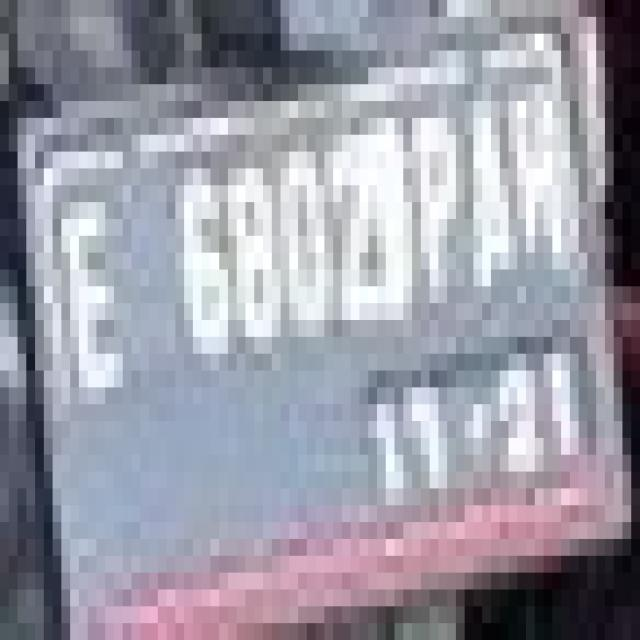plate: (0, 34, 614, 606)
